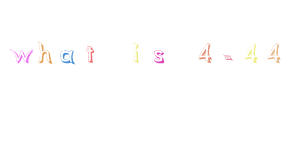-: (222, 53, 234, 62)
4: (243, 41, 258, 63), (198, 41, 212, 64), (266, 41, 280, 63)
a: (59, 48, 75, 64)
h: (38, 41, 53, 64)
i: (132, 43, 140, 63)
s: (153, 49, 165, 63)
t: (84, 45, 96, 63)
w: (10, 48, 33, 64)
